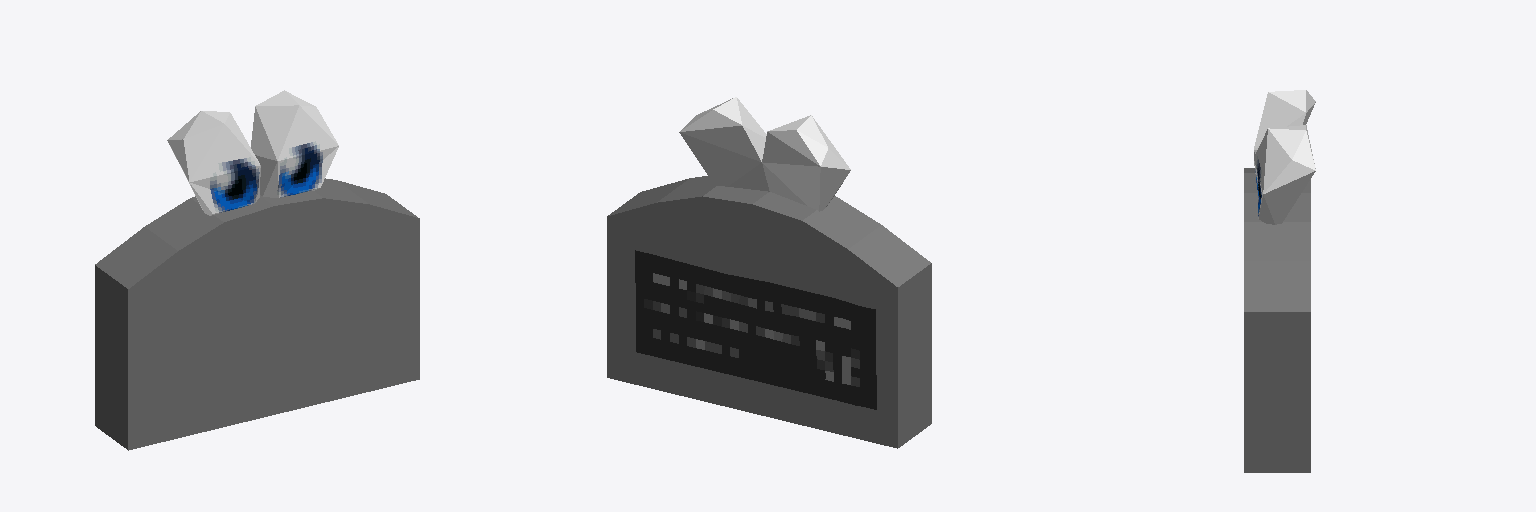
The picture shows the model from 3 angles: view 1: azimuth 30°, elevation 25°; view 2: azimuth 150°, elevation 25°; view 3: azimuth 270°, elevation 25°; orthographic projection.
Visible parts, largest first — view 1: 114, 117; view 2: 115, 114, 117; view 3: 114, 117.
Part boxes in pixels (x1,y1,x2,y2): 114: (95, 178, 419, 450); 117: (167, 90, 338, 215); 115: (607, 196, 897, 448); 114: (608, 176, 931, 447); 117: (679, 97, 850, 211); 114: (1244, 168, 1310, 472); 117: (1254, 90, 1315, 224).
Bounding box in the file's own units: 5.67 × 5.43 × 1.22.
4 materials, 4 textured.